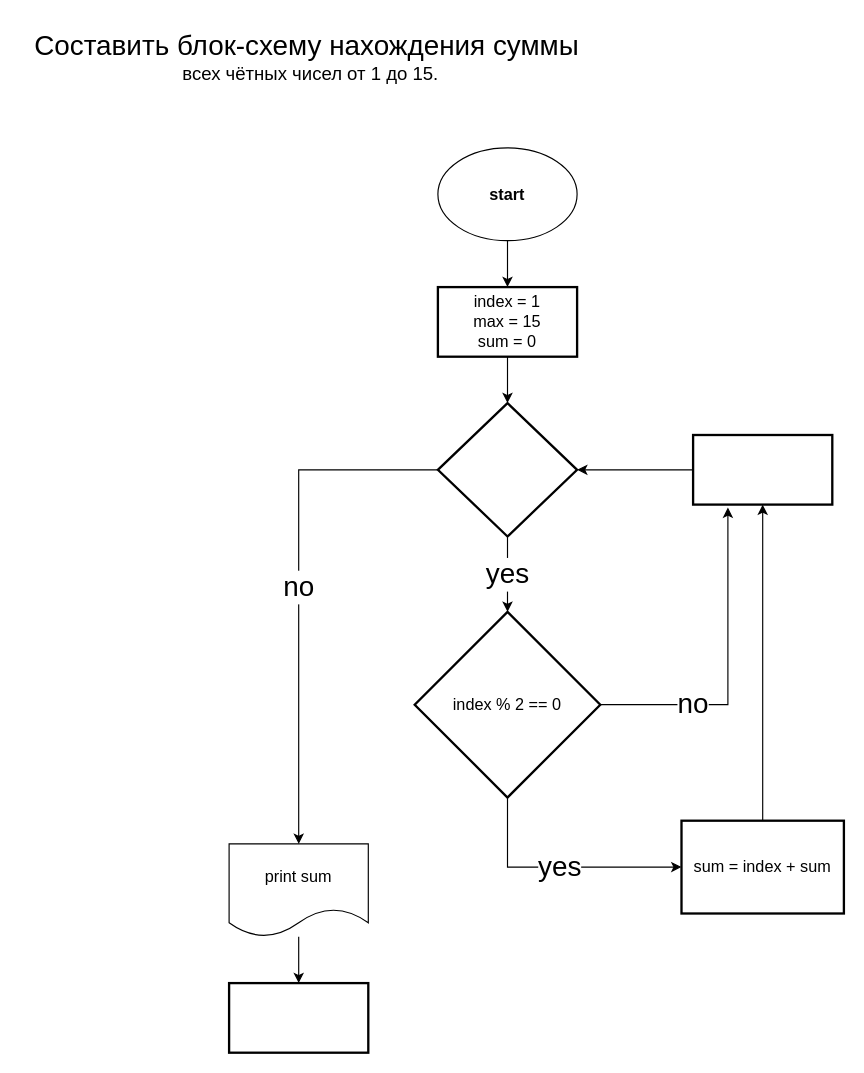
The diagram is 864 pixels wide and 1073 high, and some of its shapes have lost their labels. The centre of each missing label's shape, as x and y in pixels:
"Finish" goes at (298,1017).
"index < max" goes at (507,469).
"index = index+1" goes at (762,469).
